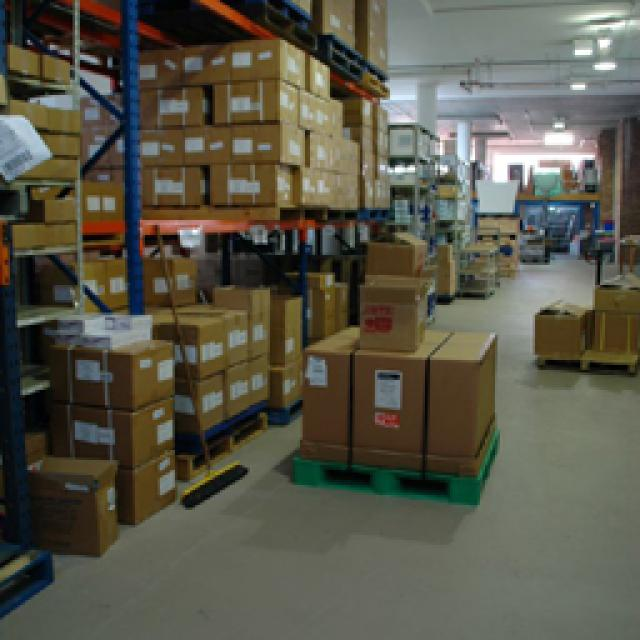box: (296, 334, 499, 472), (20, 453, 119, 561), (206, 160, 298, 207), (537, 304, 593, 362)
